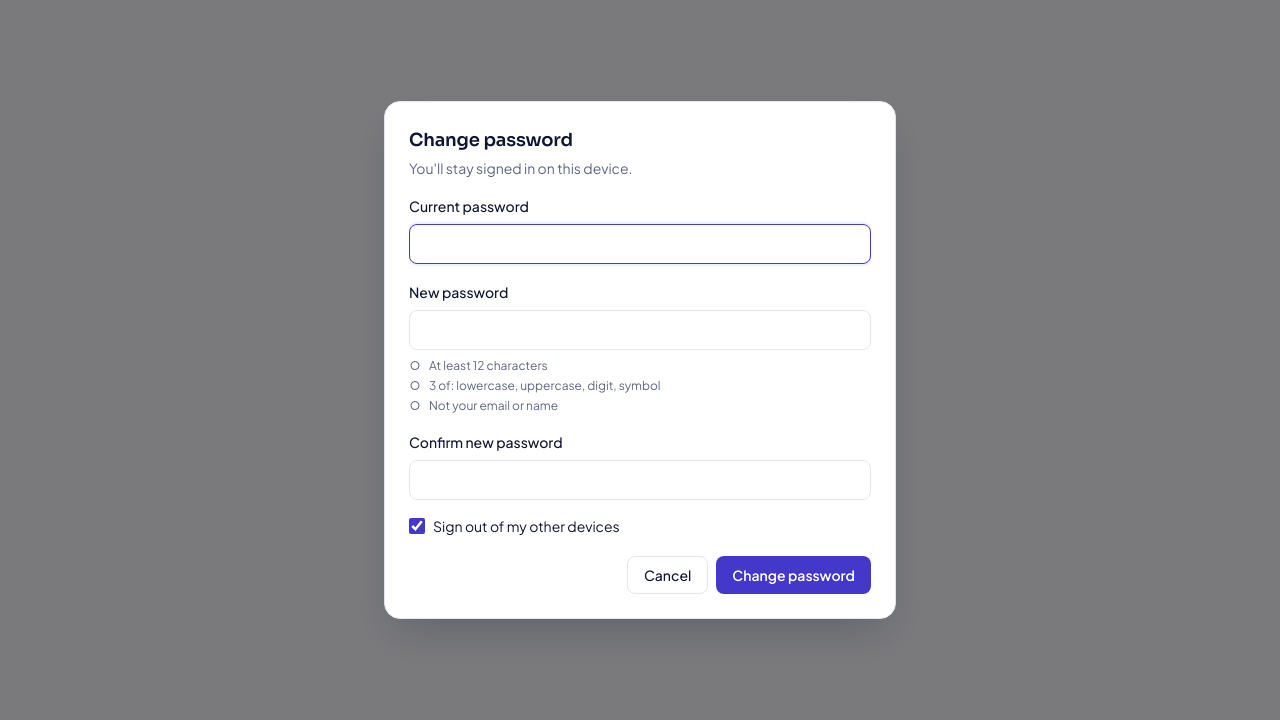
Scenario: ChangePasswordDialog › shows the server’s policy messages next to the new password
Type "Old-Password-1!" into the password field labelled "Current password".
click(640, 244); type("Old-Password-1!")  # box [409,224,871,264]
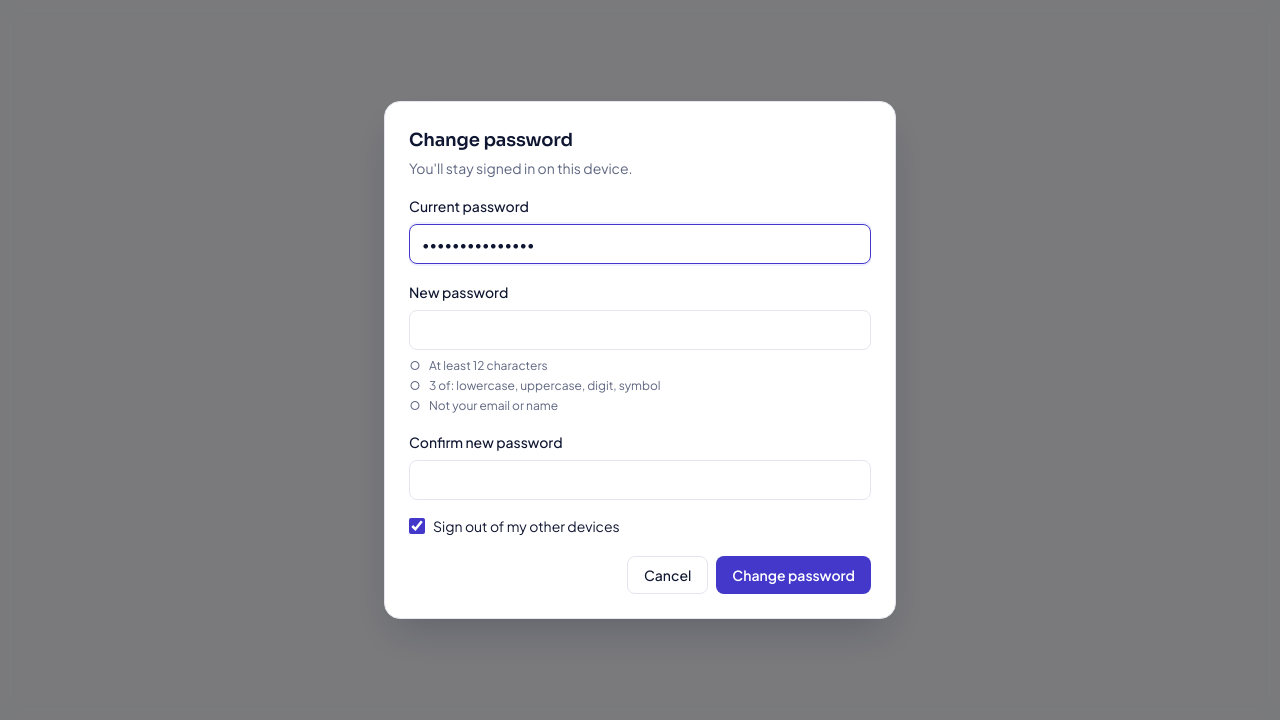
Type "Quiet-River-Lamp-77" into the password field labelled "New password".
click(640, 330); type("Quiet-River-Lamp-77")  # box [409,310,871,350]
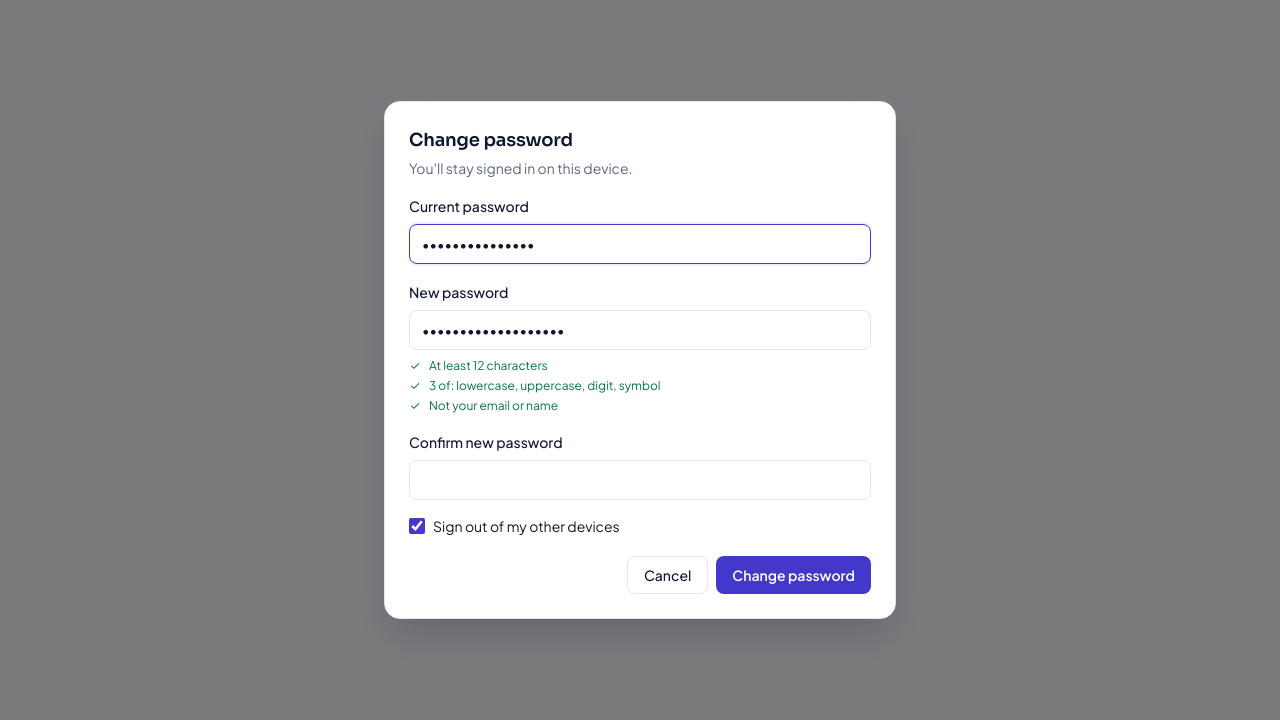
Type "Quiet-River-Lamp-77" into the password field labelled "Confirm new password".
click(640, 480); type("Quiet-River-Lamp-77")  # box [409,460,871,500]
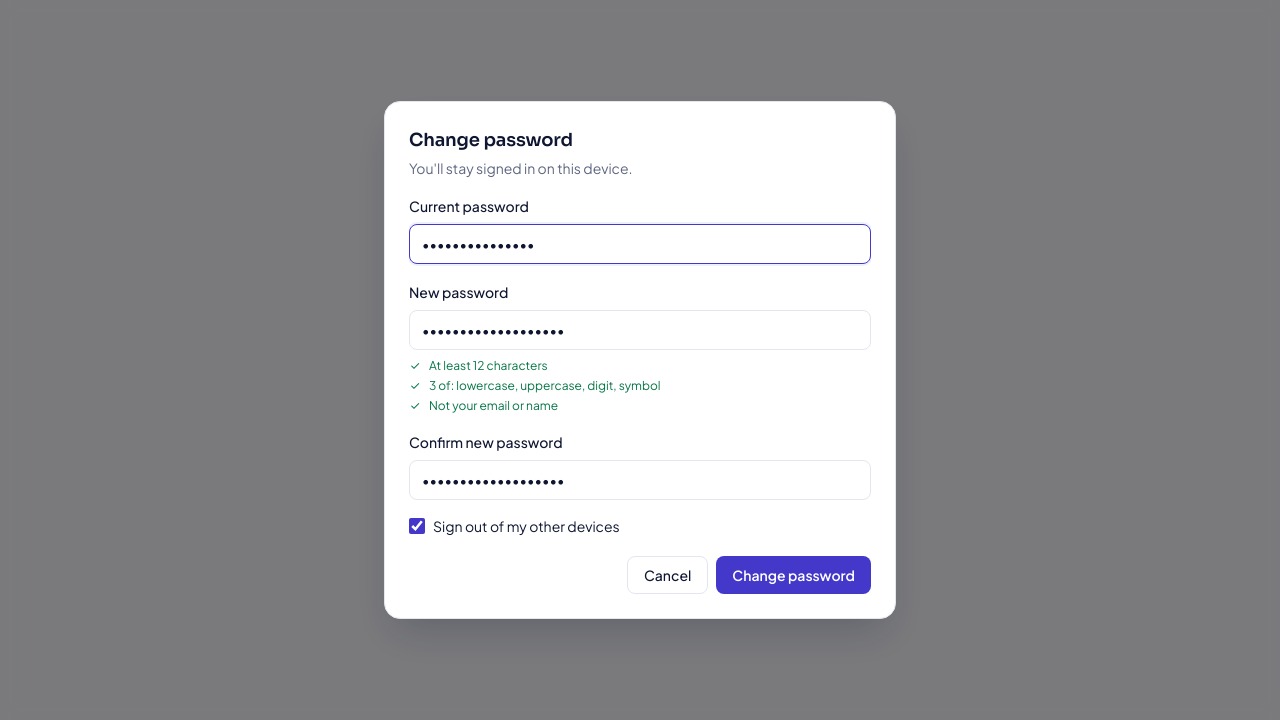
Click the button "Change password".
click(794, 575)  # box [716,556,871,594]
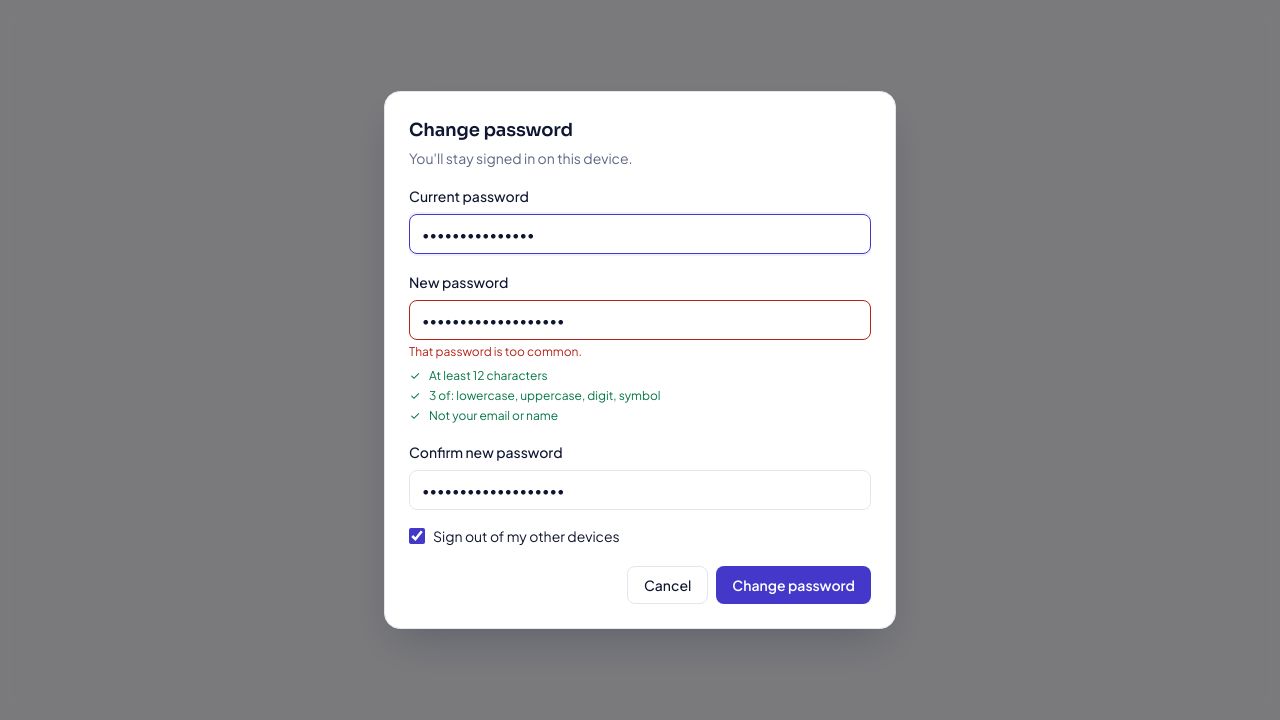
Expected: the text "That password is too common." is shown, [409,344,582,359]
